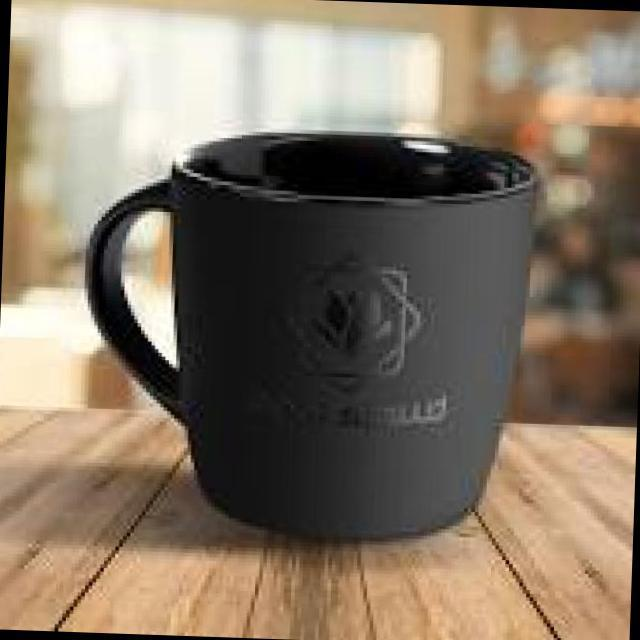taza: (77, 120, 540, 544)
